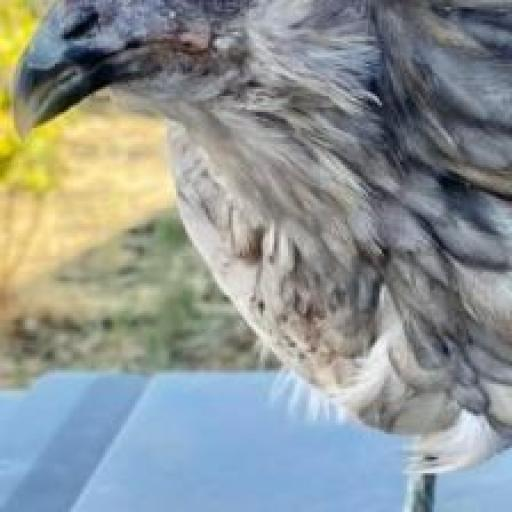disease: (22, 0, 245, 52)
